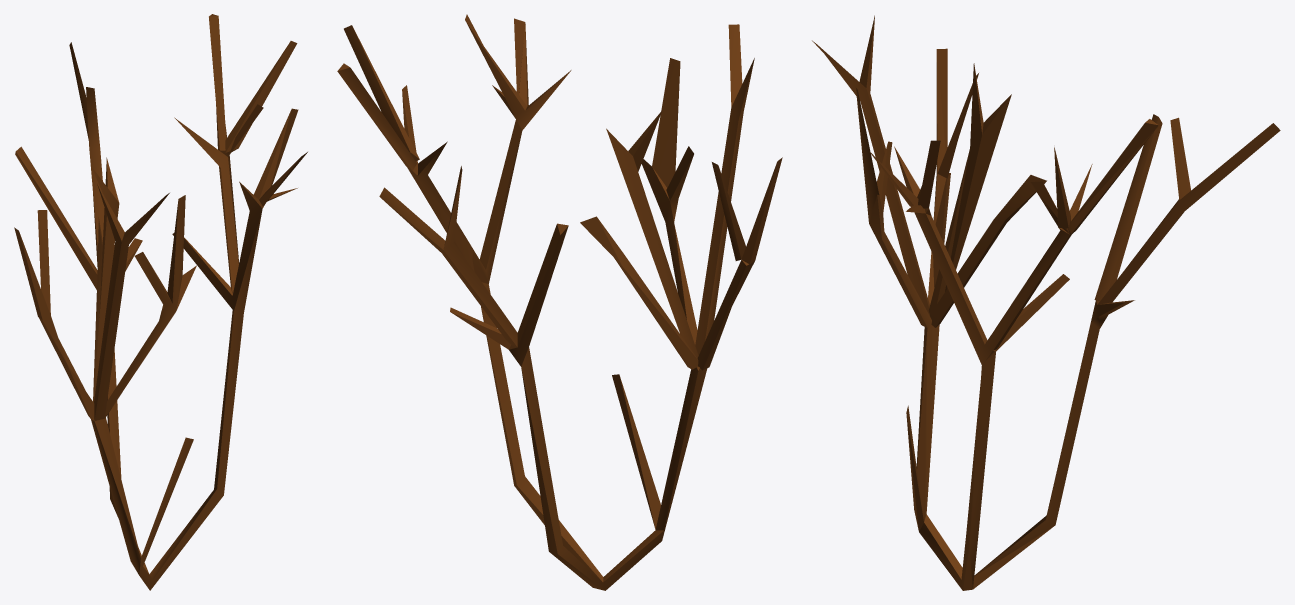
File: low_poly_bush_winter_03.glb
3 views of the same model, side by side, from view 1: azimuth 30°, elevation 25°; view 2: azimuth 150°, elevation 25°; view 3: azimuth 270°, elevation 25° (orthographic). The views are drawn at different scales.
Visible parts, largest first — view 1: Cube; view 2: Cube; view 3: Cube.
Part boxes in pixels (x1,y1,x2,y2): Cube: [14, 14, 307, 590]; Cube: [337, 14, 782, 590]; Cube: [812, 15, 1280, 590].
Size of the model in its own units: 0.4814 by 0.6697 by 0.5172.
